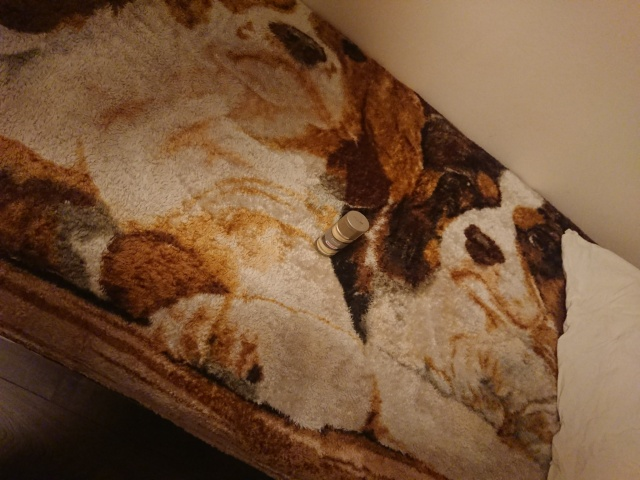Kotanyi Garlic Granules 70g: (312, 209, 371, 259)
